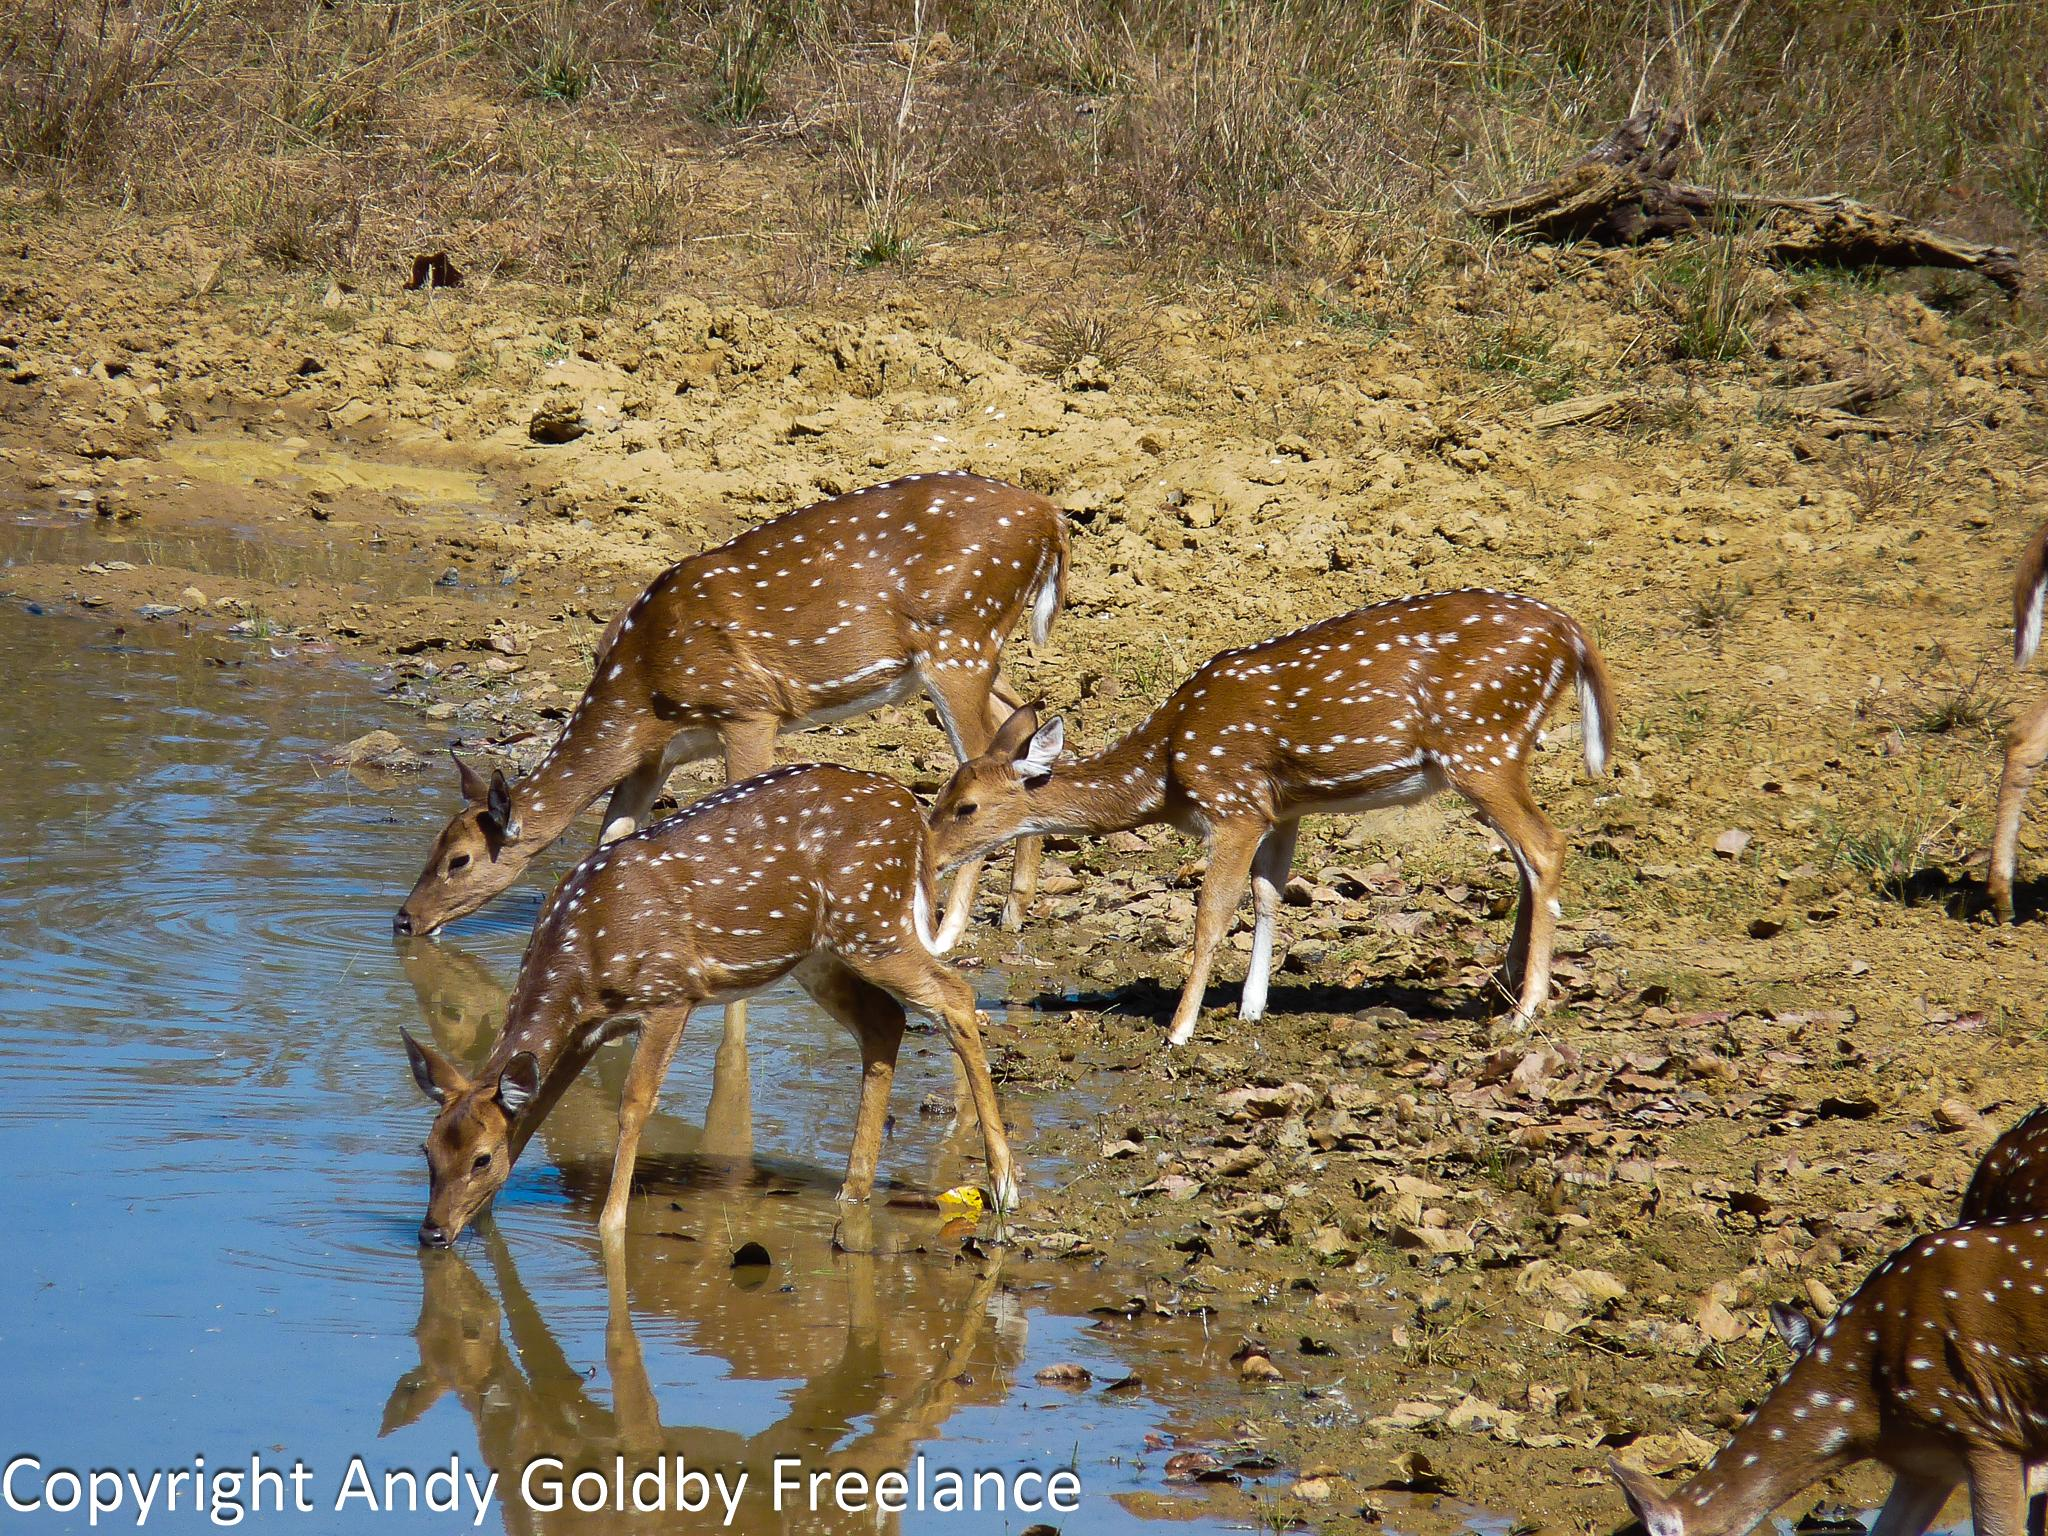Deer: (922, 589, 1613, 1046), (395, 473, 1068, 934), (408, 765, 1018, 1249)
